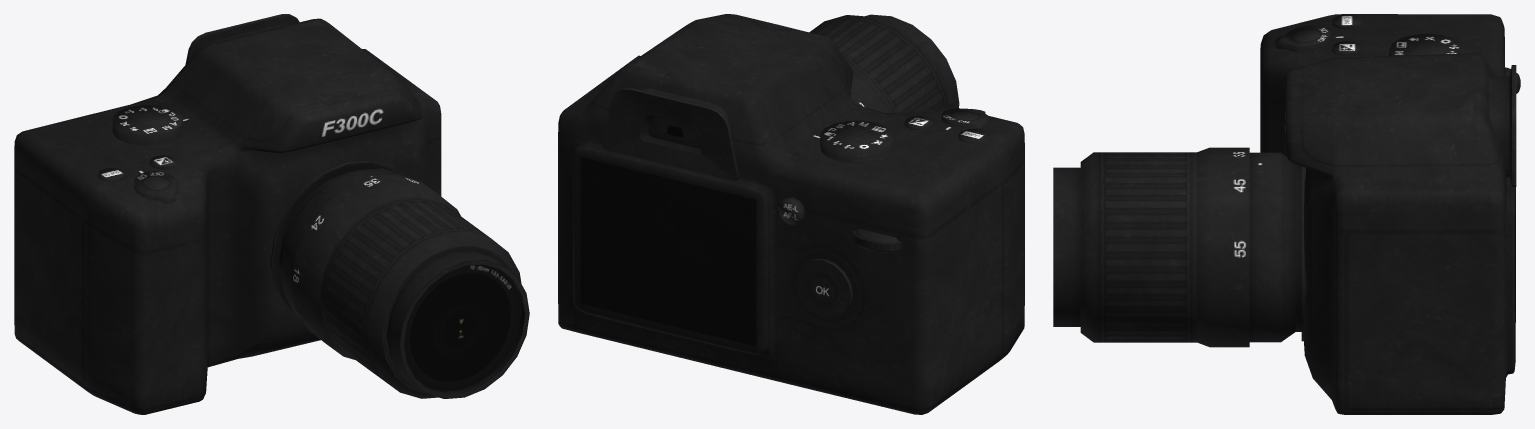
File: camera_01.fbx
3 renders of one model, left to right at view 1: azimuth 30°, elevation 25°; view 2: azimuth 150°, elevation 25°; view 3: azimuth 270°, elevation 25°, orthographic. The views are drawn at different scales.
Visible parts, largest first — view 1: camera_01; view 2: camera_01; view 3: camera_01.
Boxes of the visible parts, <box> form: camera_01: <box>14,14,529,414</box>; camera_01: <box>558,14,1024,414</box>; camera_01: <box>1053,14,1520,414</box>.
Size of the model in its own units: 54.83 by 38.15 by 58.48.
